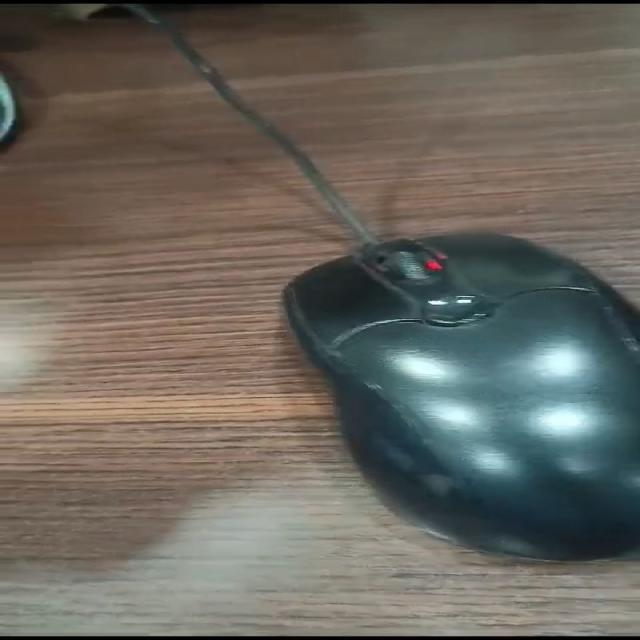mouse: (192, 213, 640, 595)
